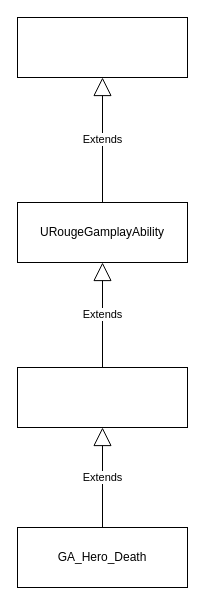
Some shapes in this 205 by 605 pixel diagram are drawn without their labels. Here are the shapes that lost their labels. From the top down, the centre of each, then its label:
the point at 102,47: UGamplayAbility
the point at 102,397: GA_AbilityWithWidget
